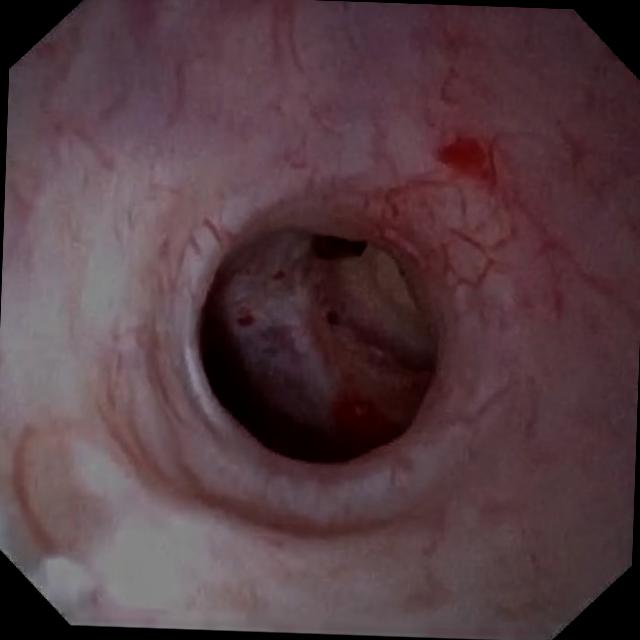stone-new: (310, 235, 366, 260)
